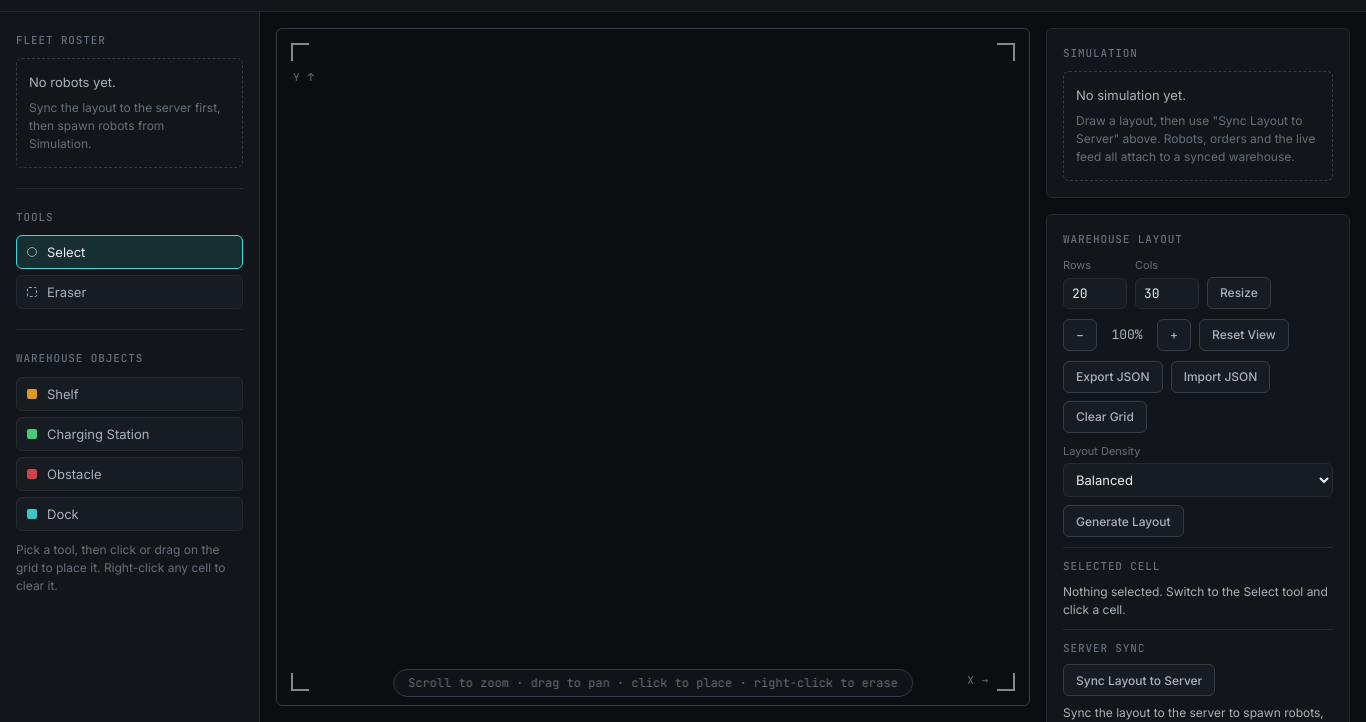
Test: warehouse, robot and order loading › syncs a layout, then loads its robots, orders and obstacles
Click the button "Sync Layout to Server" at (1139, 680), box x1=1063 y1=664 x2=1215 y2=696
(page scrolled)
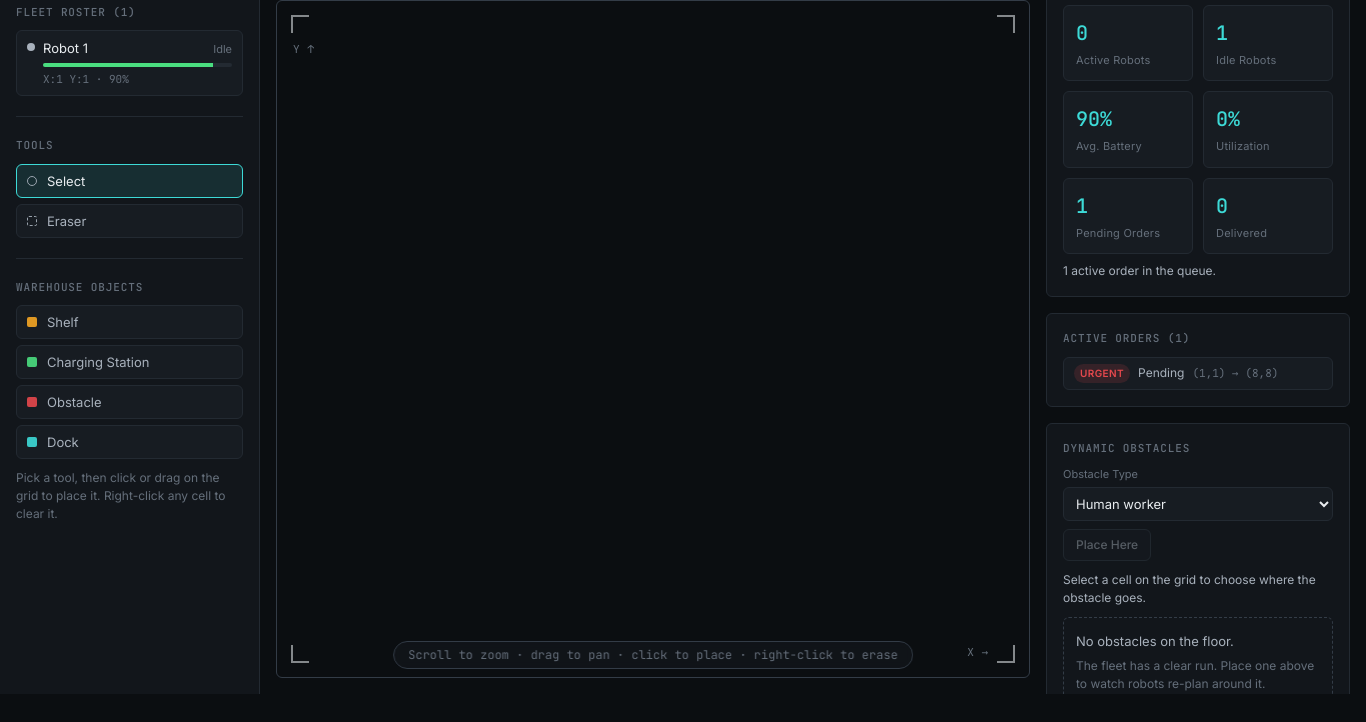
Expected: the text "Robot 1" is shown, x1=43 y1=39 x2=88 y2=58
Expected: the heading "Active Orders (1)" is shown, x1=1063 y1=331 x2=1190 y2=345
